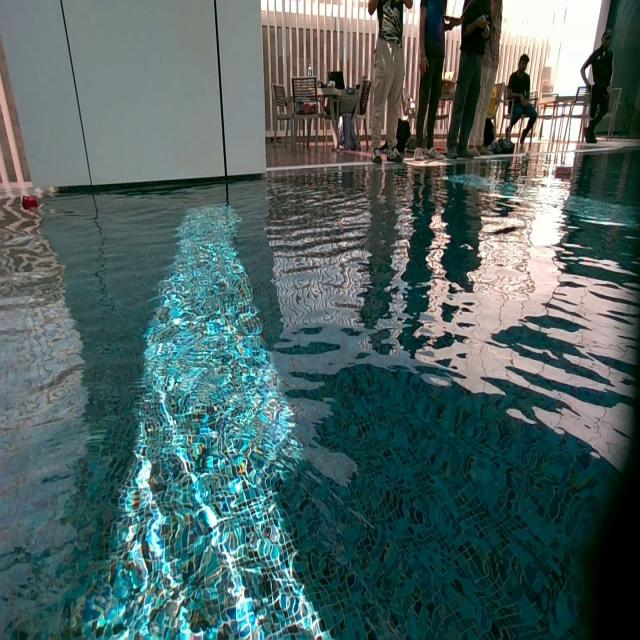Cans: (20, 194, 42, 210), (550, 166, 574, 179)
